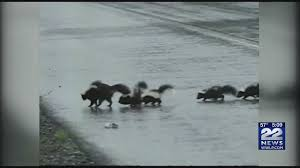skunk: (77, 83, 128, 109), (139, 85, 176, 107), (194, 87, 229, 103)
